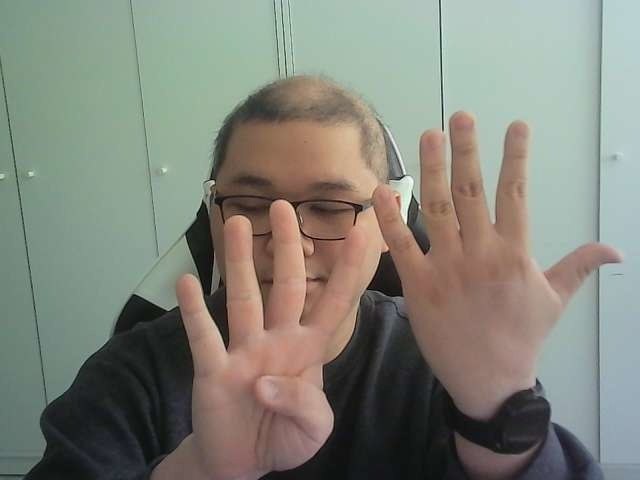Nine: (177, 109, 629, 469)
